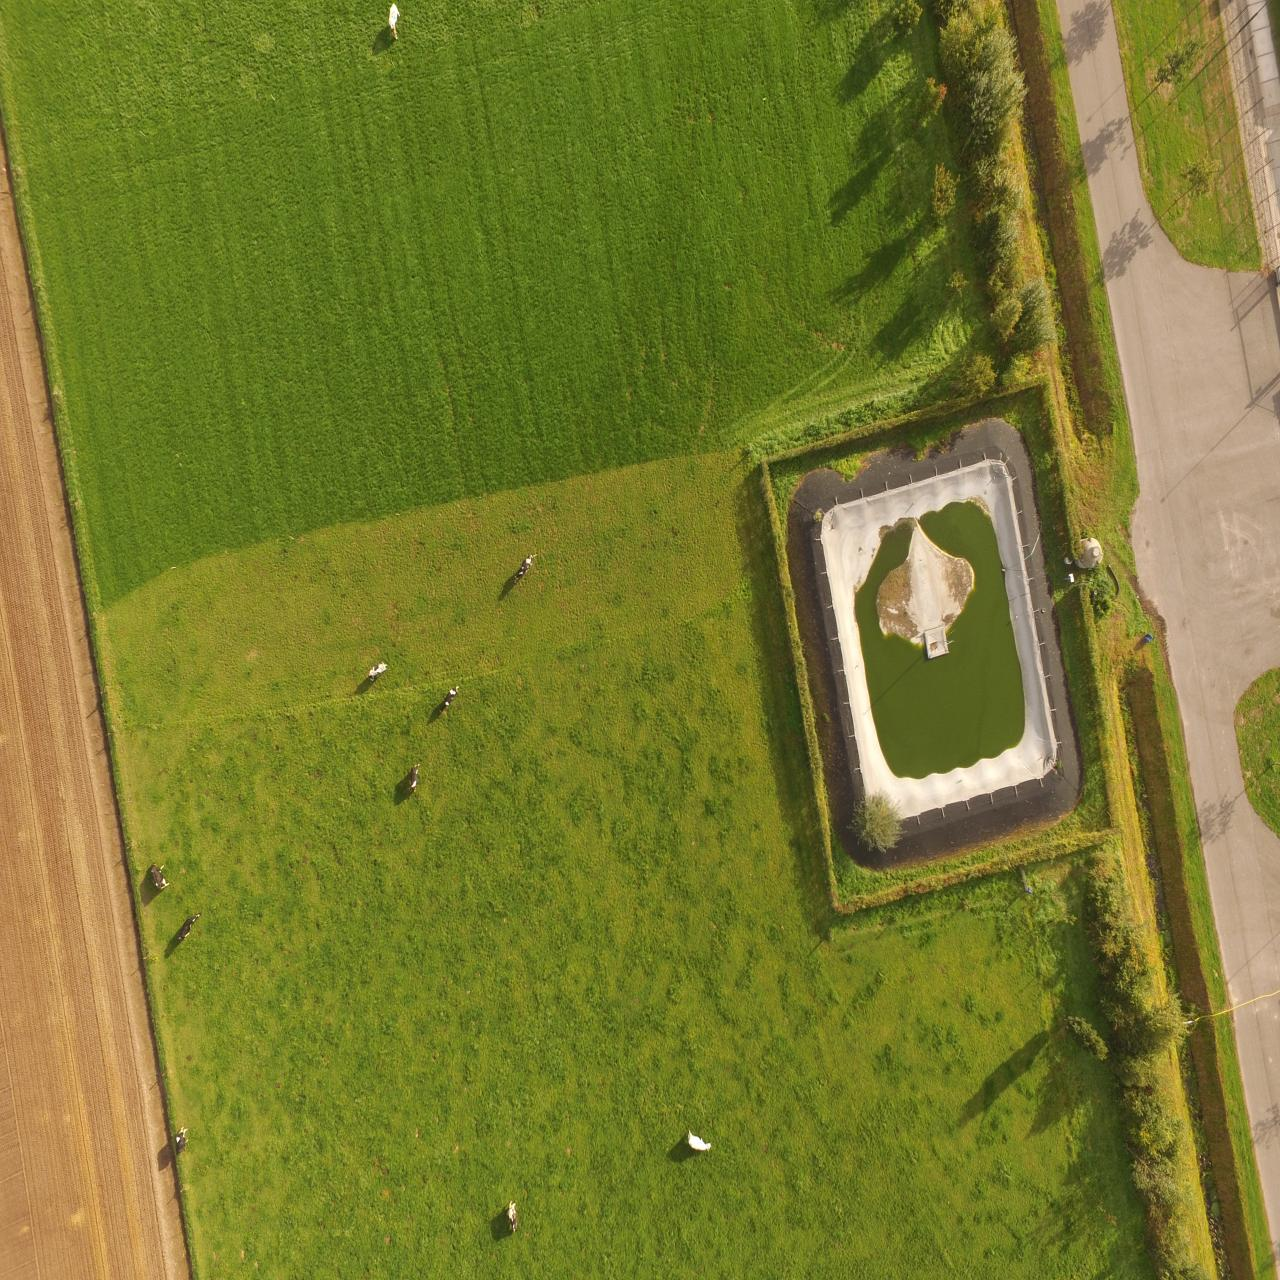cow: (508, 544, 540, 595), (431, 679, 469, 717), (170, 907, 202, 948), (377, 0, 402, 43), (683, 1124, 714, 1157), (502, 1199, 524, 1240), (171, 1117, 196, 1152), (144, 860, 171, 892), (401, 764, 428, 795), (365, 661, 387, 686)
